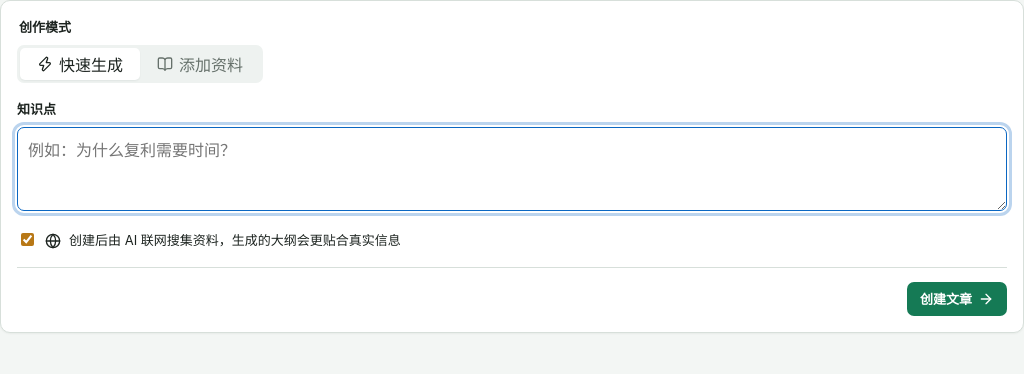
Scenario: NewArticleForm › does not submit a blank topic
Click the button "创建文章": (957, 298) [907, 282, 1007, 316]
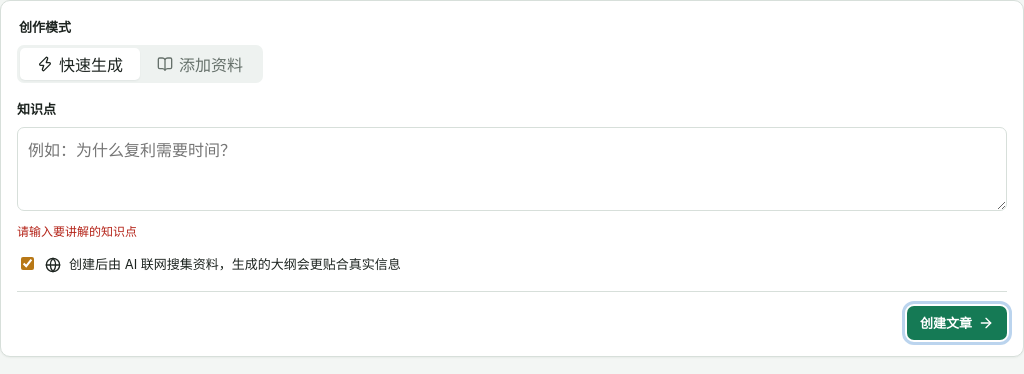
Now the text "请输入要讲解的知识点" is shown, box [17, 224, 137, 239]
